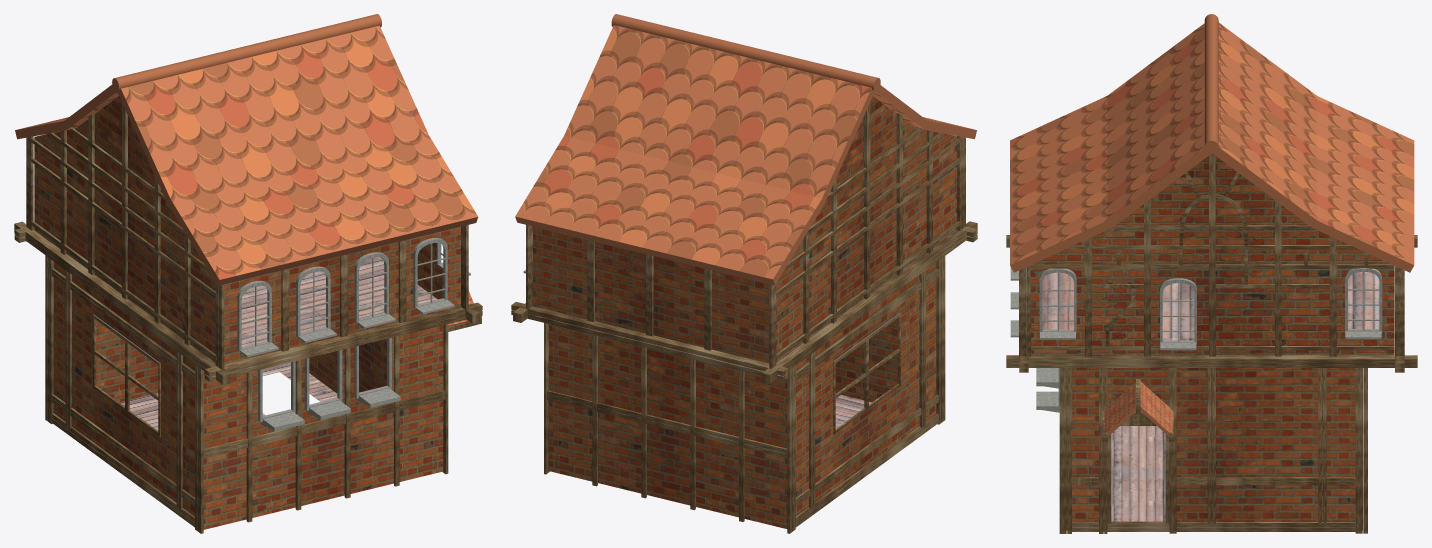
The model's file is Fachada.obj.
3 renders of one model, left to right at view 1: azimuth 30°, elevation 25°; view 2: azimuth 150°, elevation 25°; view 3: azimuth 270°, elevation 25°, orthographic.
Visible parts, largest first — view 1: Fachada:polySurface437; view 2: Fachada:polySurface437; view 3: Fachada:polySurface437.
Part boxes in pixels (x1,y1,x2,y2): Fachada:polySurface437: (14, 14, 482, 533); Fachada:polySurface437: (511, 14, 977, 533); Fachada:polySurface437: (1006, 14, 1417, 533).
Bounding box in the file's own units: 42.98 × 52.31 × 49.18.
Materials: 11 (7 with a texture image).
